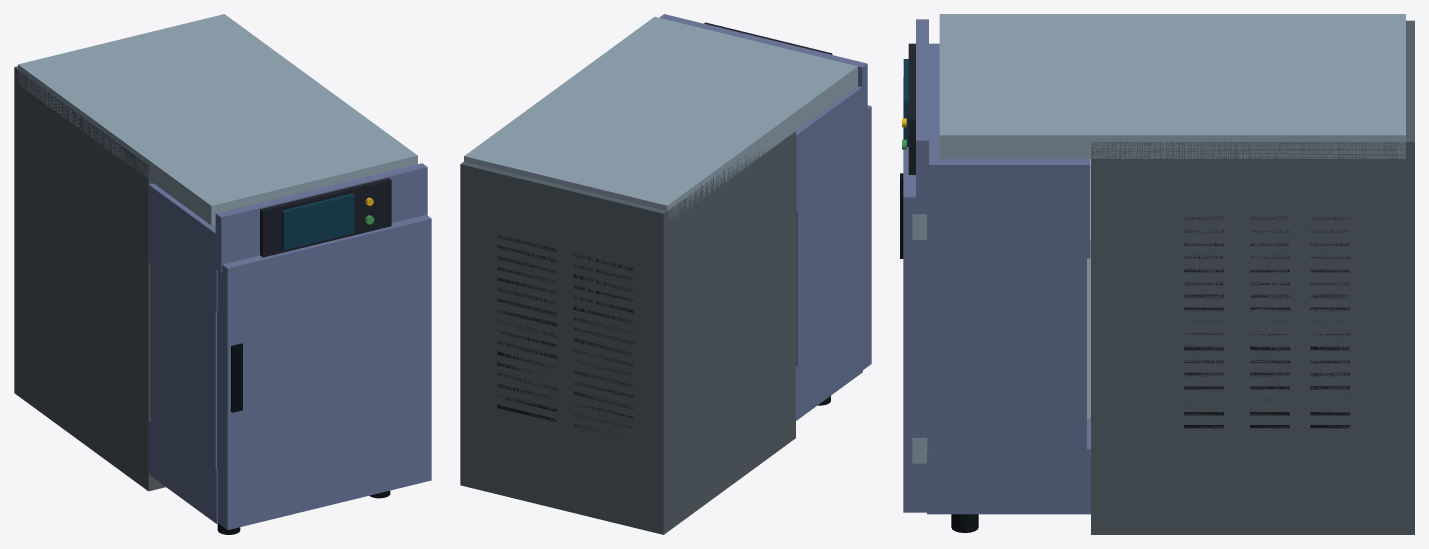
File: espec-sh-262.glb
3 views of the same model, side by side, from view 1: azimuth 30°, elevation 25°; view 2: azimuth 150°, elevation 25°; view 3: azimuth 270°, elevation 25° (orthographic). The views are drawn at different scales.
Parts seen in each view (by area): view 1: cabinet, chamber_door, controller; view 2: cabinet, chamber_door; view 3: cabinet, chamber_door.
Boxes of the visible parts, x1,y1,x2,y2 form: cabinet: [14, 14, 427, 534]; chamber_door: [217, 215, 431, 529]; controller: [281, 193, 374, 250]; cabinet: [460, 14, 867, 534]; chamber_door: [862, 105, 871, 369]; cabinet: [908, 14, 1414, 534]; chamber_door: [900, 77, 928, 512].
Bounding box in the file's own units: 0.44 × 0.69 × 0.7885.
